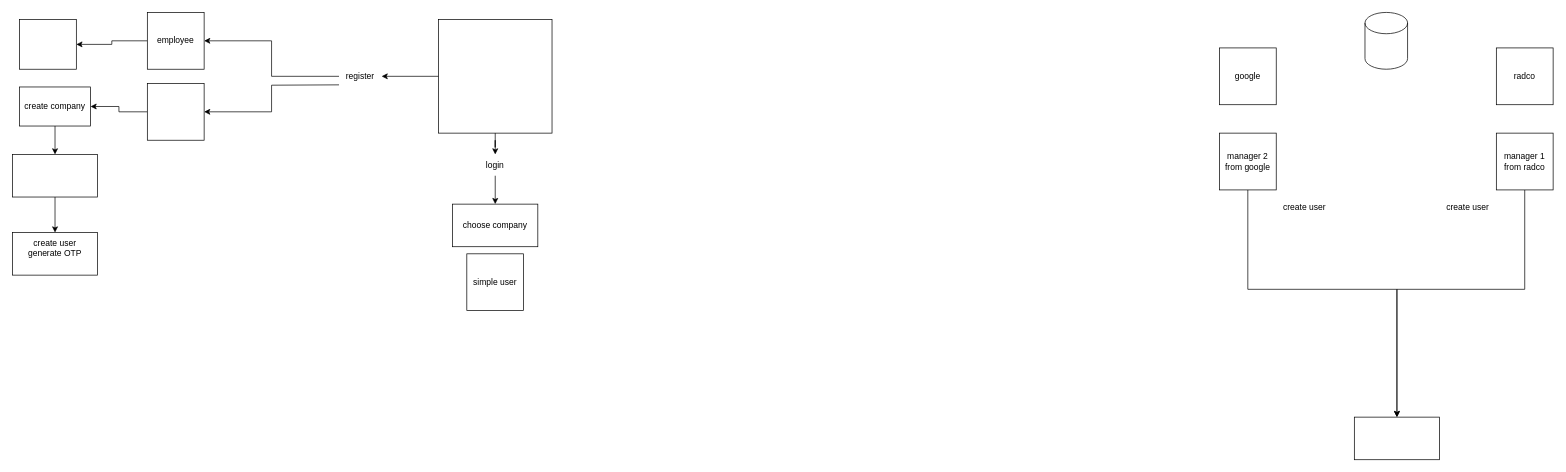
This 1566x472 diagram has some shape labels left out. The shapes that lost their labels are listed below. From the top down, each one's centre as x and y in pixels, then its label:
pixel 47 44: join comapny
pixel 495 76: register or login
pixel 175 111: manager
pixel 55 175: create department
pixel 1397 438: yosi@yosi.com "Bb1122!!"
